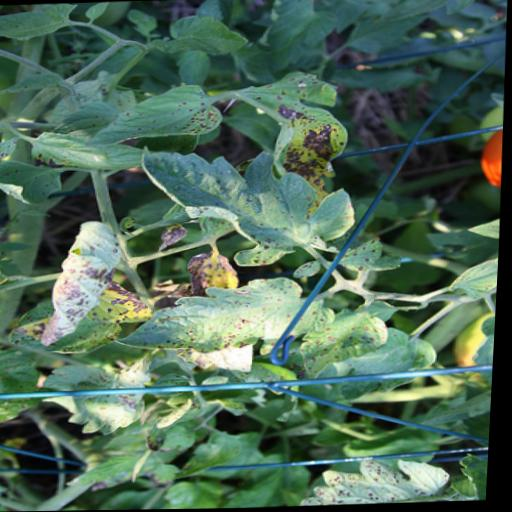Septoria: (136, 134, 364, 272), (115, 275, 342, 357), (237, 67, 355, 214), (37, 219, 132, 349), (9, 280, 160, 358), (82, 84, 230, 148), (37, 361, 159, 438), (301, 456, 465, 507), (294, 302, 397, 377), (31, 125, 152, 174), (151, 12, 250, 58), (0, 157, 70, 206), (0, 2, 78, 43), (187, 251, 246, 297), (339, 236, 408, 274), (449, 257, 501, 301)
